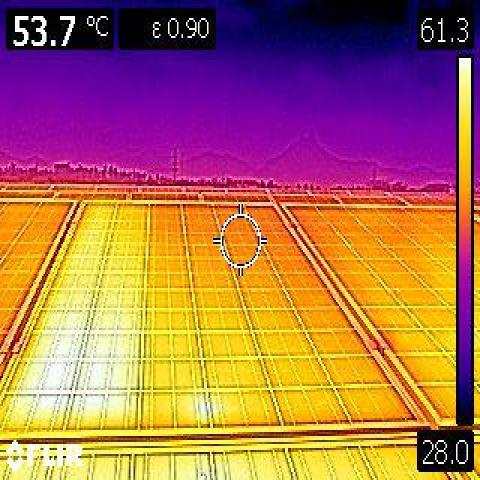fault: (3, 342, 153, 430), (185, 391, 225, 427)
